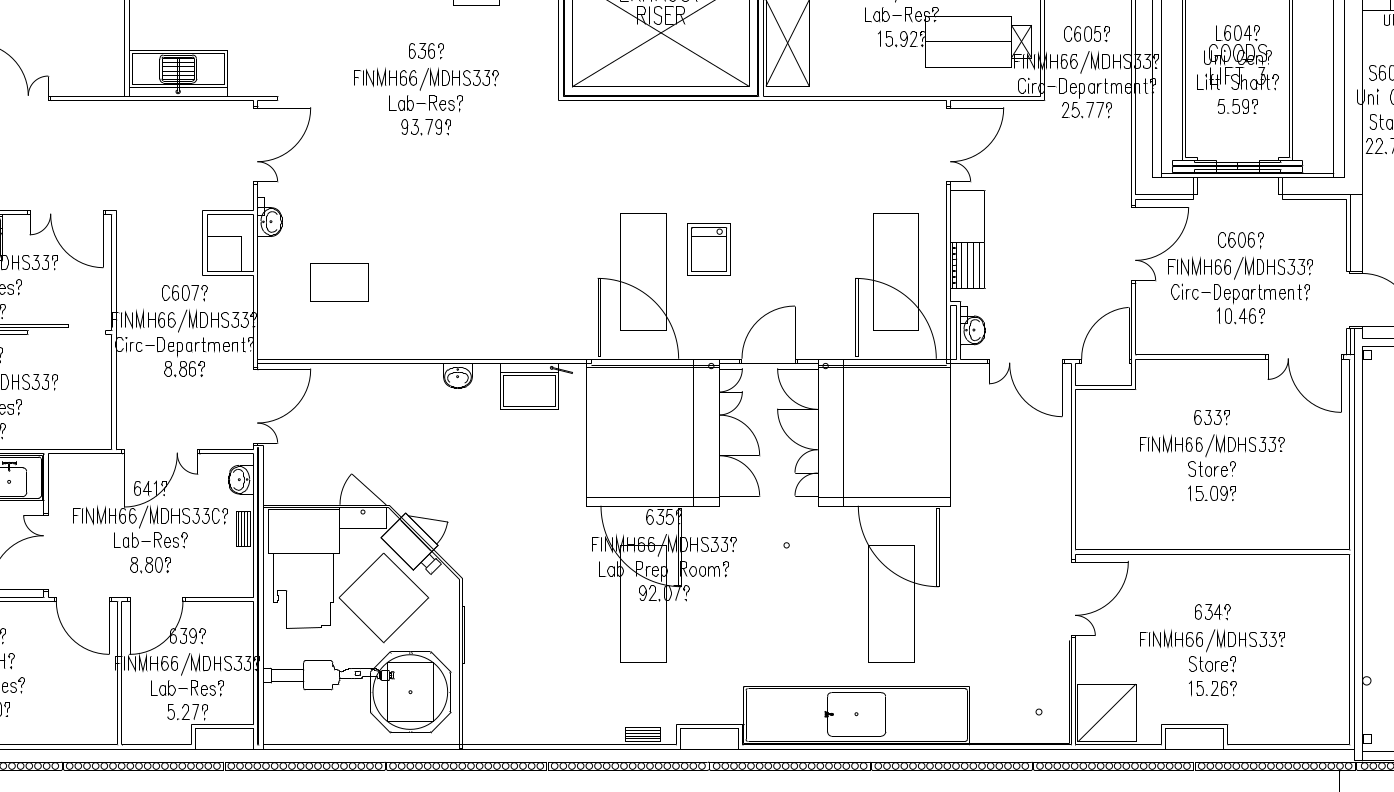door: (854, 508, 946, 594), (593, 275, 685, 361), (25, 206, 108, 281), (253, 366, 327, 449), (983, 356, 1066, 427), (250, 104, 320, 188), (118, 444, 201, 513), (732, 293, 804, 366), (52, 596, 115, 661), (125, 595, 188, 660), (940, 102, 1006, 163), (1125, 203, 1191, 264), (1286, 350, 1344, 417), (1077, 296, 1131, 366), (1070, 557, 1132, 616), (334, 467, 401, 508), (27, 69, 53, 108), (1068, 614, 1101, 638)
